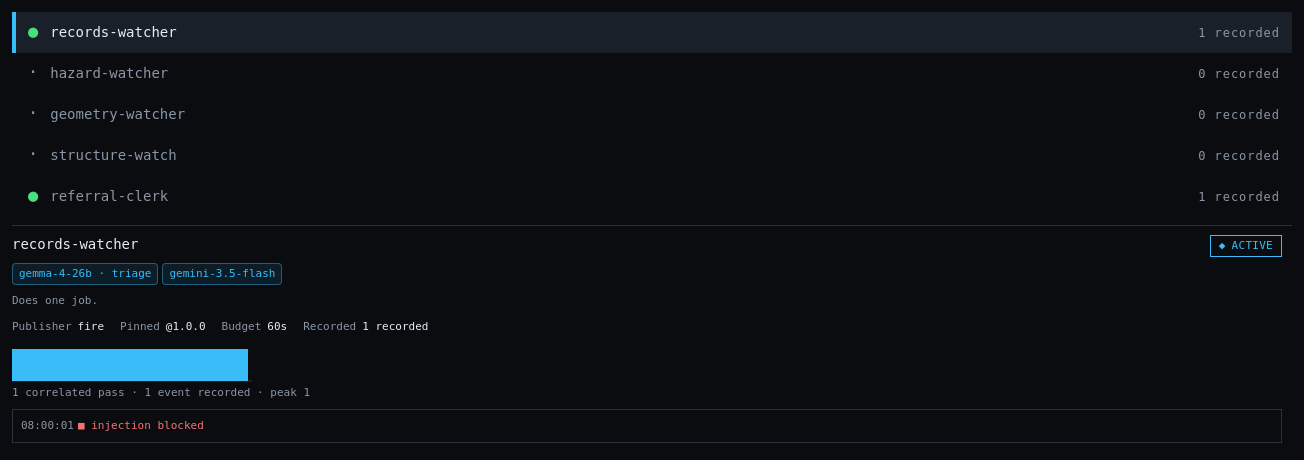
Test: the reasoning terminal › says nothing happened rather than inventing a line
Click the button with test id "fleet-row-hazard-watcher". click: point(109, 73)
box: [12, 53, 1292, 94]
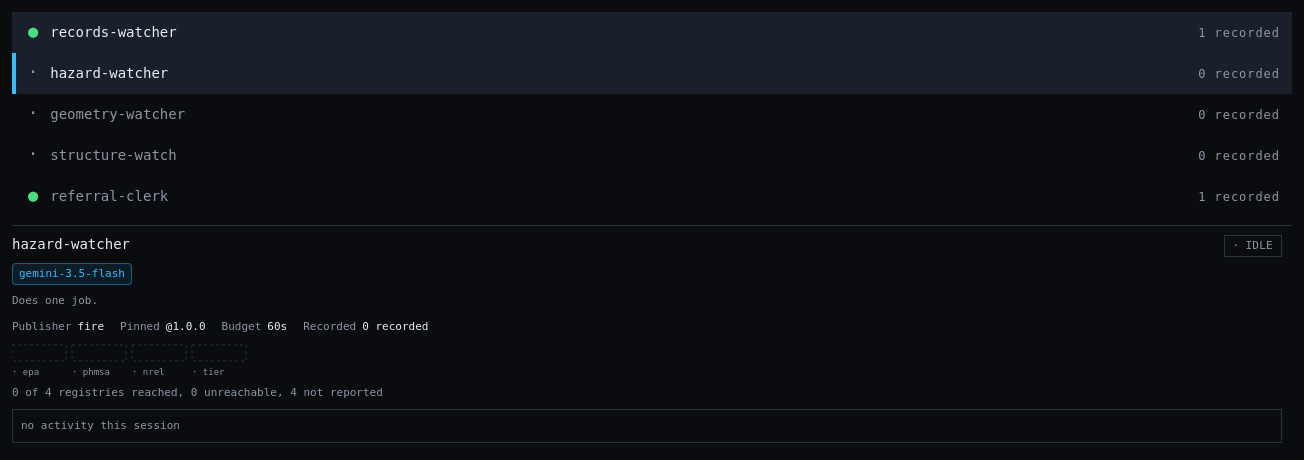
Expected: the list with test id "fleet-terminal-hazard-watcher" reads "no activity this session", [21, 419, 180, 432]
